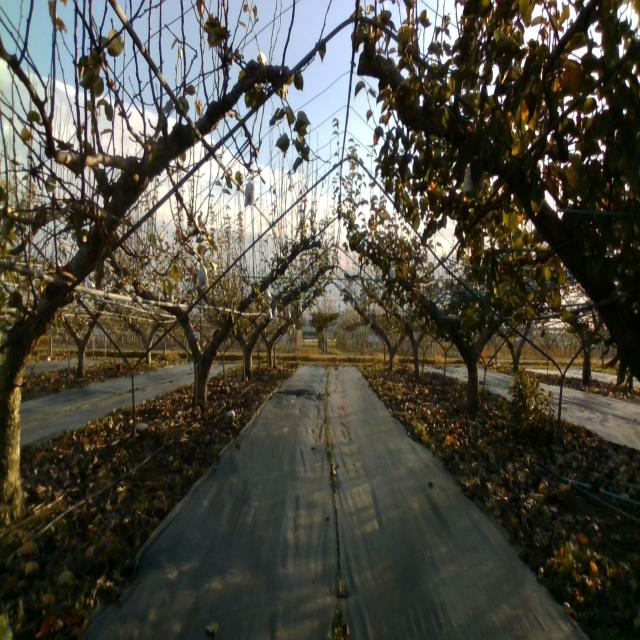pearbags: (195, 260, 210, 288), (243, 177, 255, 206)
